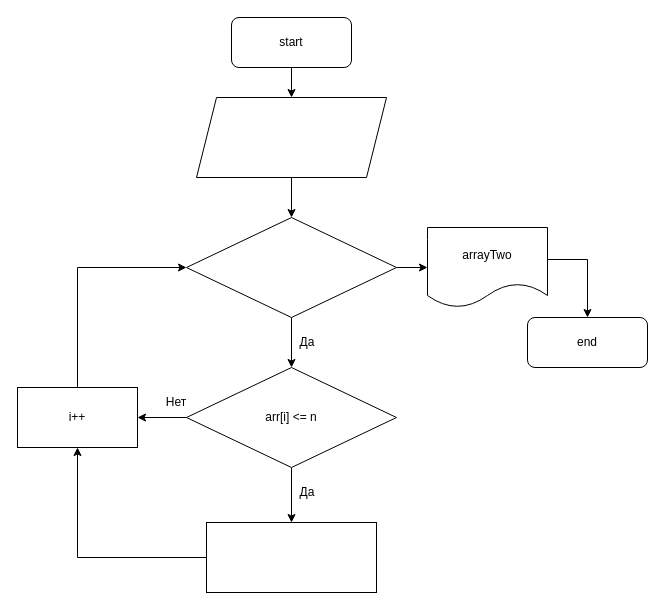
The diagram is 665 pixels wide and 610 high, and some of its shapes have lost their labels. Each missing label, with the centre of its shape:
arrayTwo[i] = arrayOne[i} j++: pixel 291 557
i < arrayOneLength: pixel 291 267
n = 3 i =0 j =0 string[] arrayOne string[] arrayTwo: pixel 291 137
